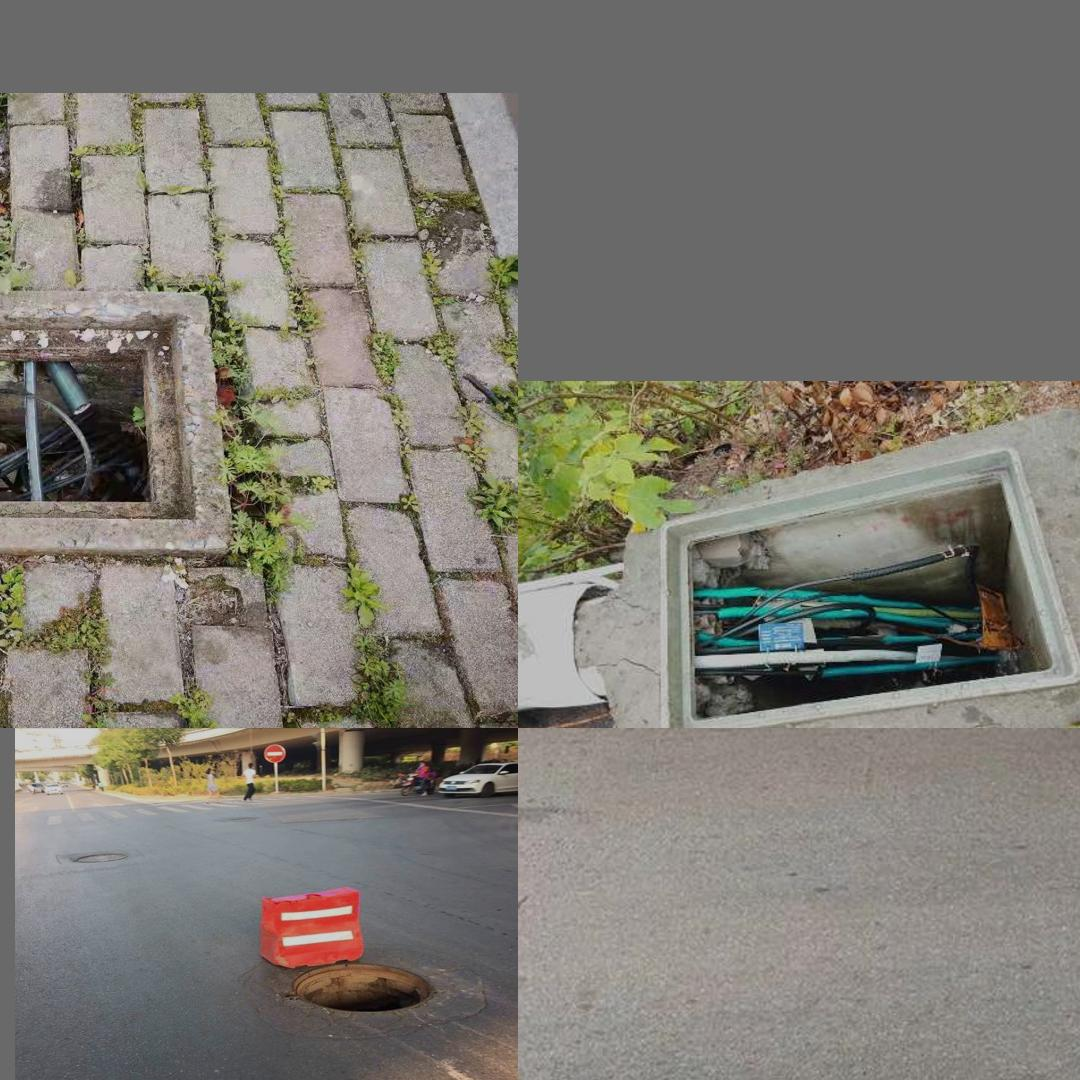lose: (659, 445, 1080, 728), (0, 286, 234, 553), (259, 942, 481, 1048)
